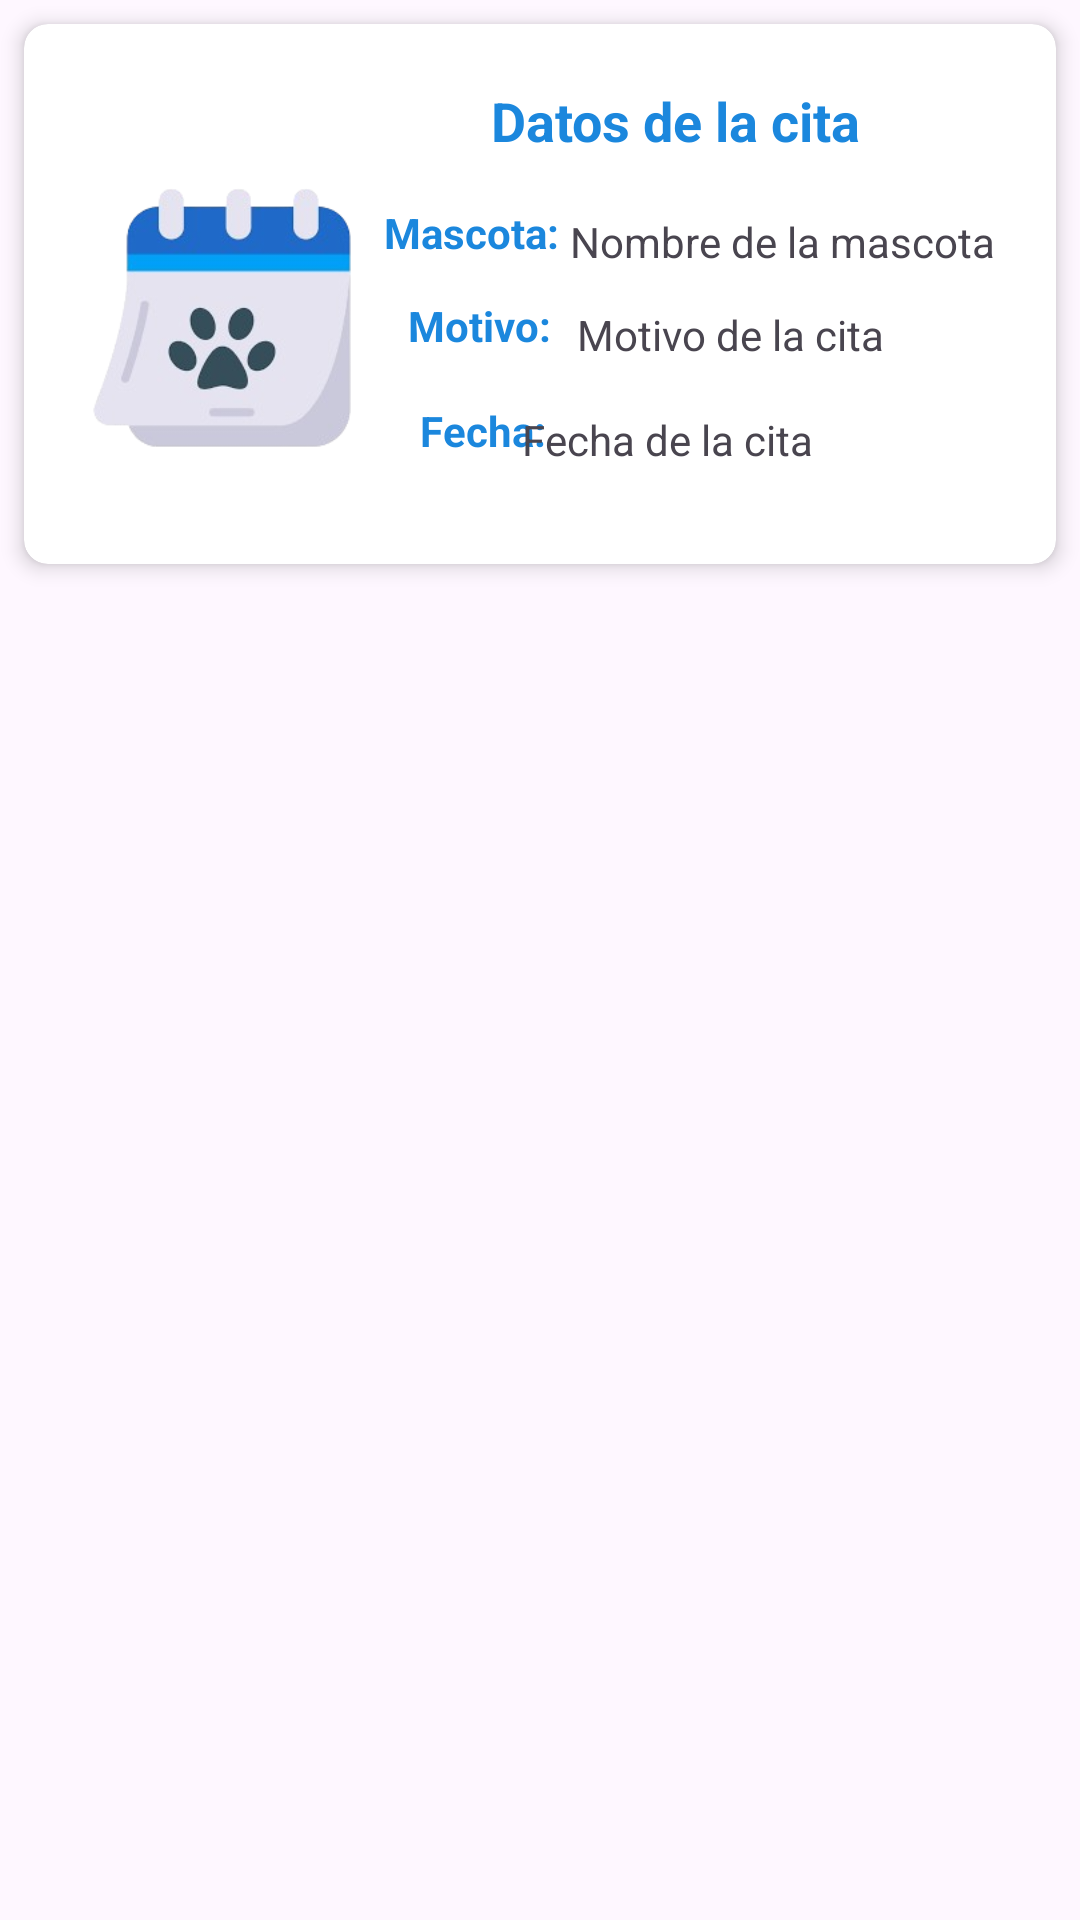

Named icons in this screenshot (1080×1920) and their centers, point (x, y):
imgcitanueva: point (223, 318)
